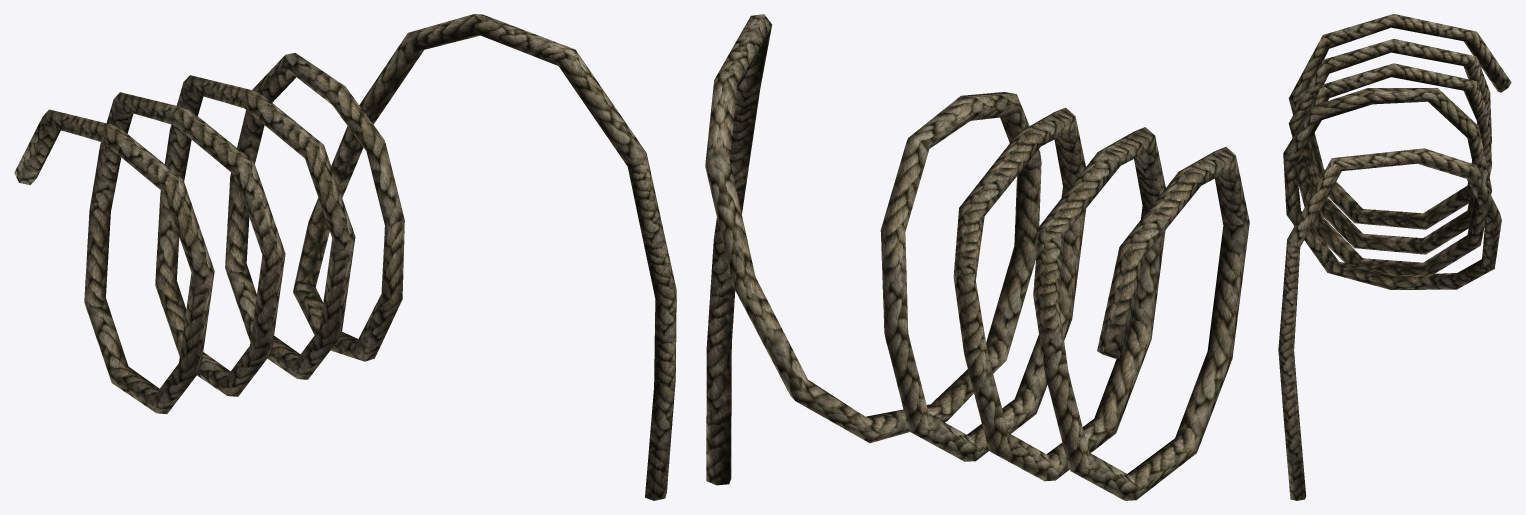
File: rope_beam01.dae
3 views of the same model, side by side, from view 1: azimuth 30°, elevation 25°; view 2: azimuth 150°, elevation 25°; view 3: azimuth 270°, elevation 25° (orthographic). The views are drawn at different scales.
Visible parts, largest first — view 1: polySurface2; view 2: polySurface2; view 3: polySurface2.
Boxes of the visible parts, <box> form: polySurface2: <box>14,14,676,500</box>; polySurface2: <box>705,14,1249,500</box>; polySurface2: <box>1278,14,1511,500</box>.
Bounding box in the file's own units: 1.62 × 1.35 × 0.8941.
